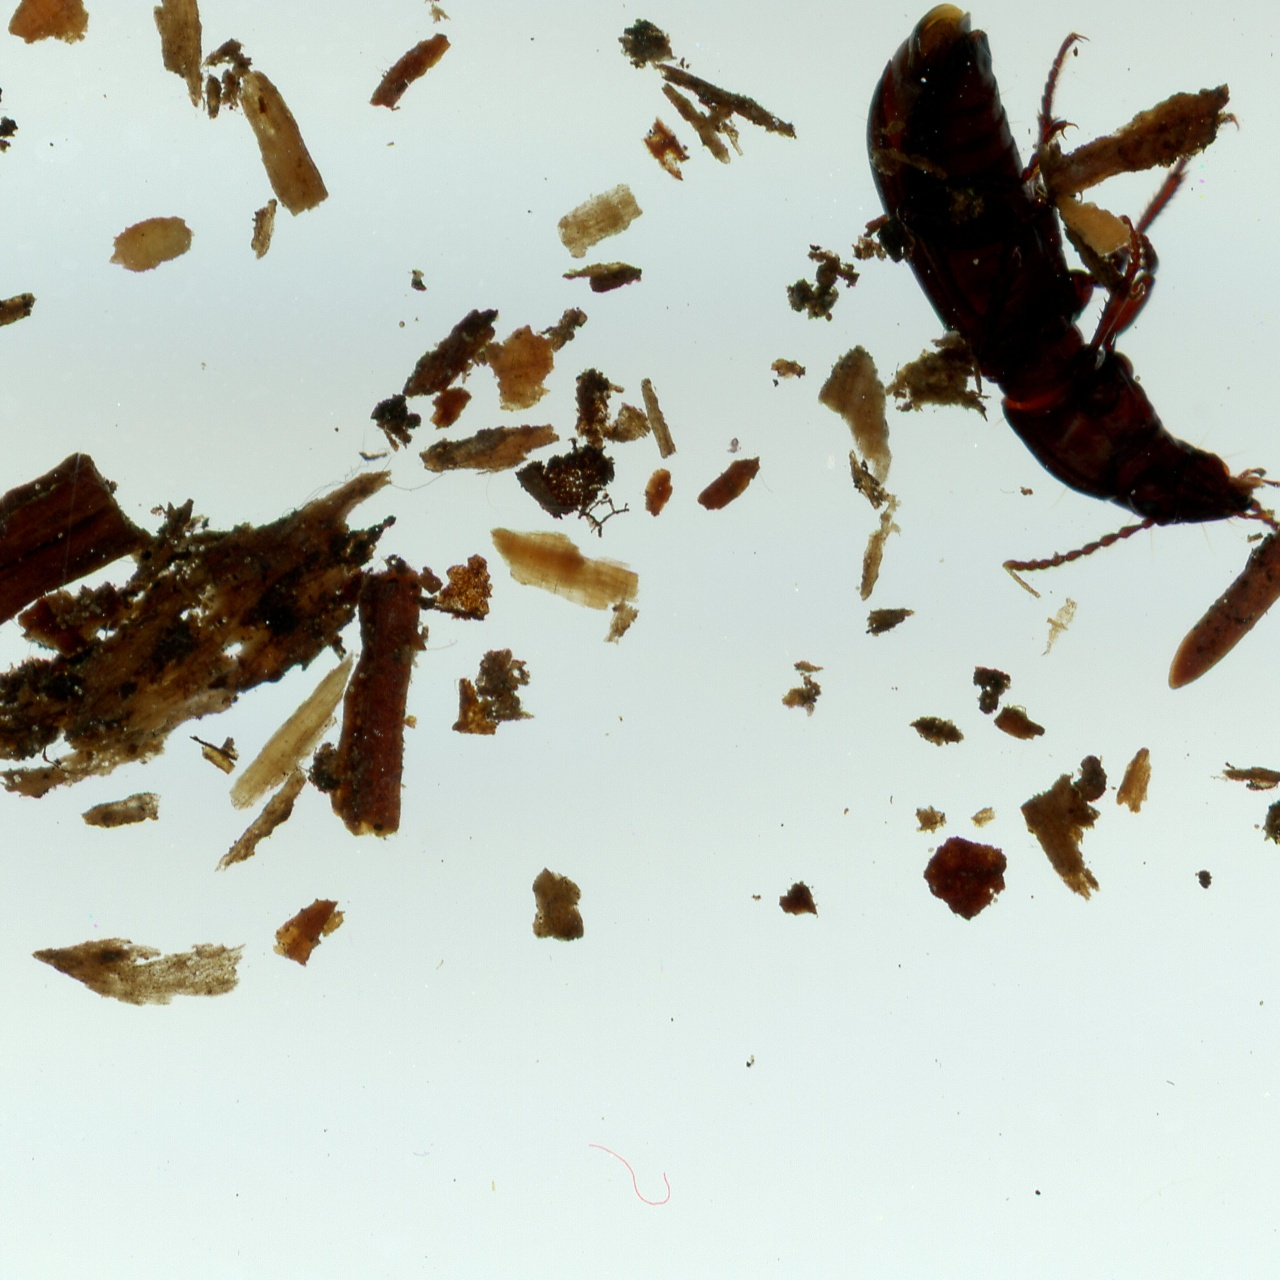arthropod: (858, 0, 1280, 580)
